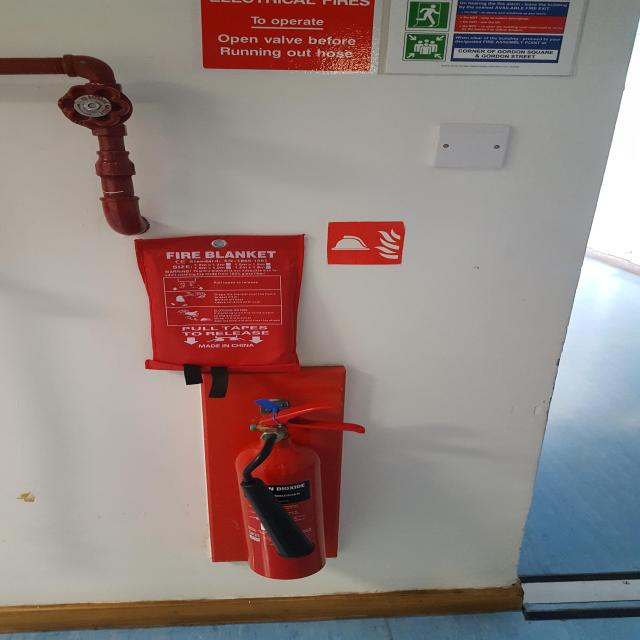fire_extinguisher: (230, 398, 376, 583)
